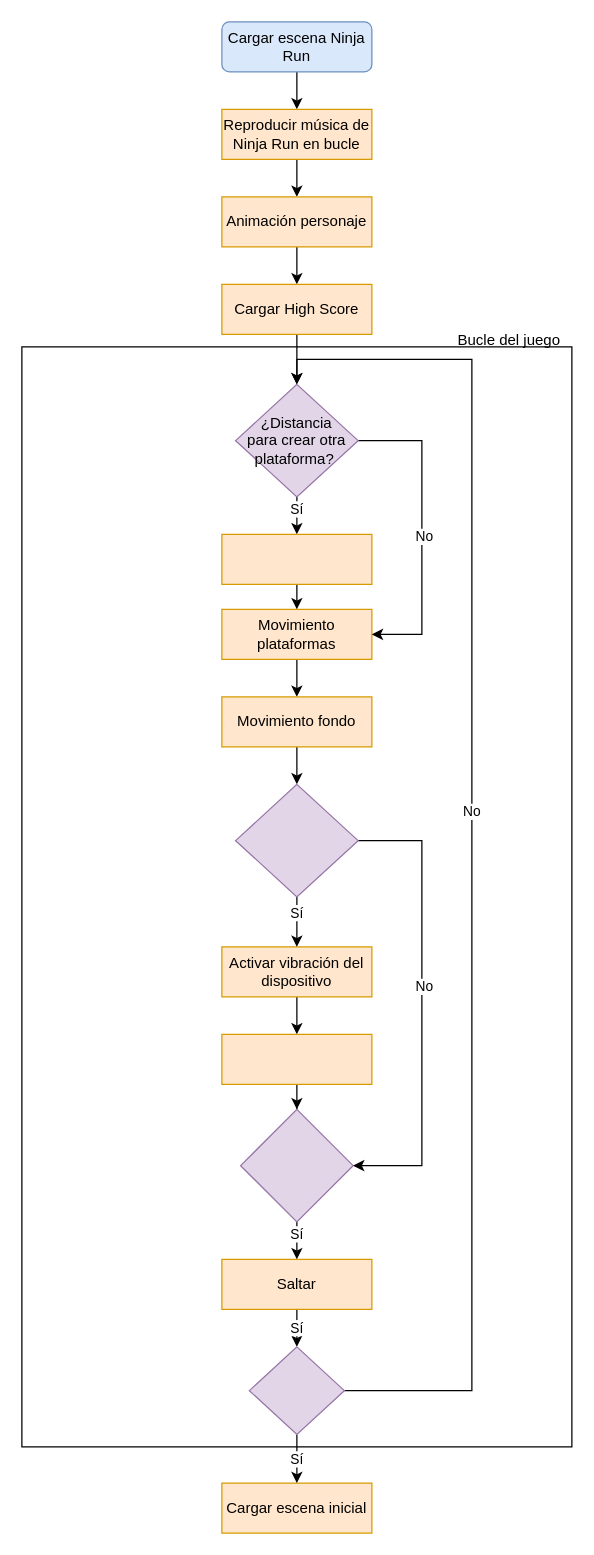
The diagram is 594 pixels wide and 1555 high, and some of its shapes have lost their labels. The centre of each missing label's shape, as x and y in pixels:
Aumentar puntuación: (296,1058)
Crear plataforma: (296,558)
¿Pantalla tocada?: (296,1165)
¿Player al final de la plataforma?: (296,840)
¿Player caído?: (296,1390)
